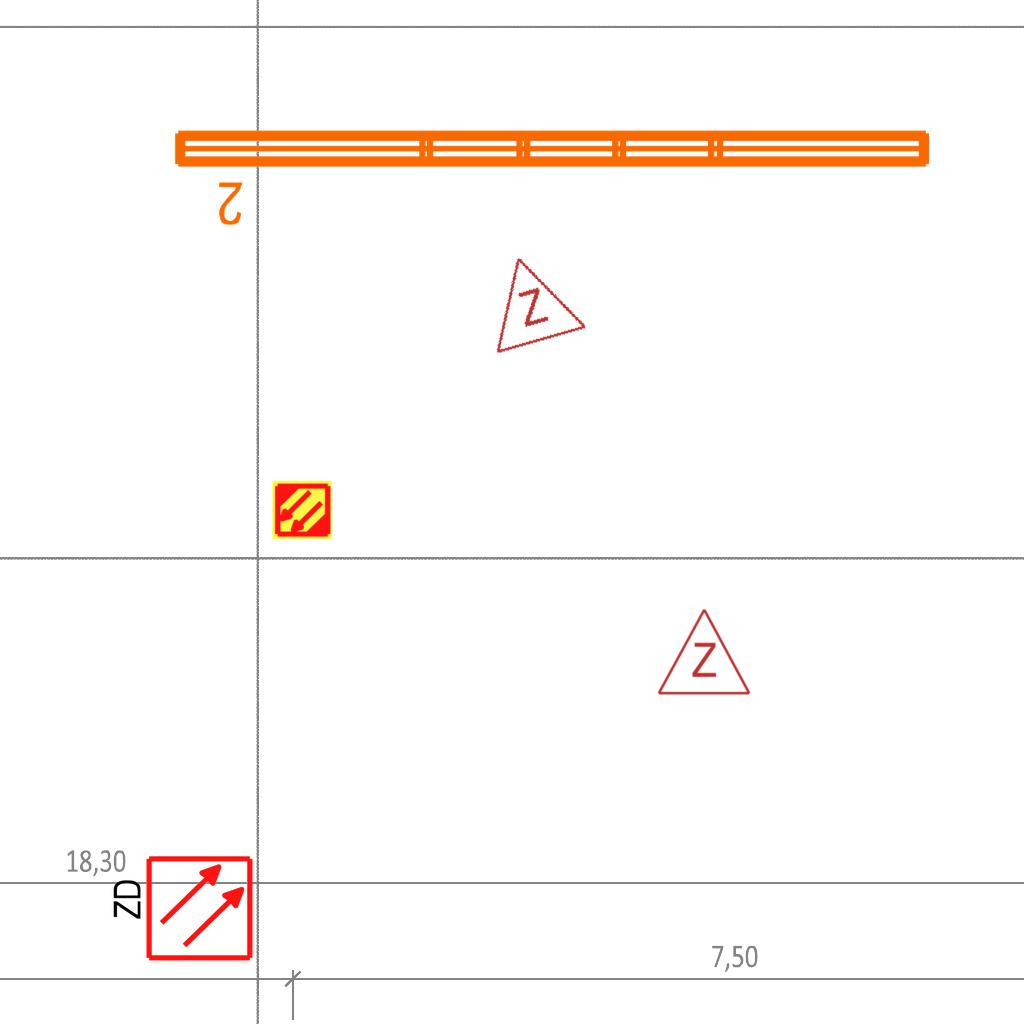ASR_Ansaugrauchmelder: (271, 479, 333, 541)
Ambulanz_Pendelleuchte_LED: (166, 118, 940, 230)
ZD_Melder_in_Zwischendecke_mit_Revisionsoeffnung_mind_40_x_40_cm: (106, 853, 255, 967)
Zimmersignalleuchte: (468, 238, 590, 362), (654, 602, 752, 702)
